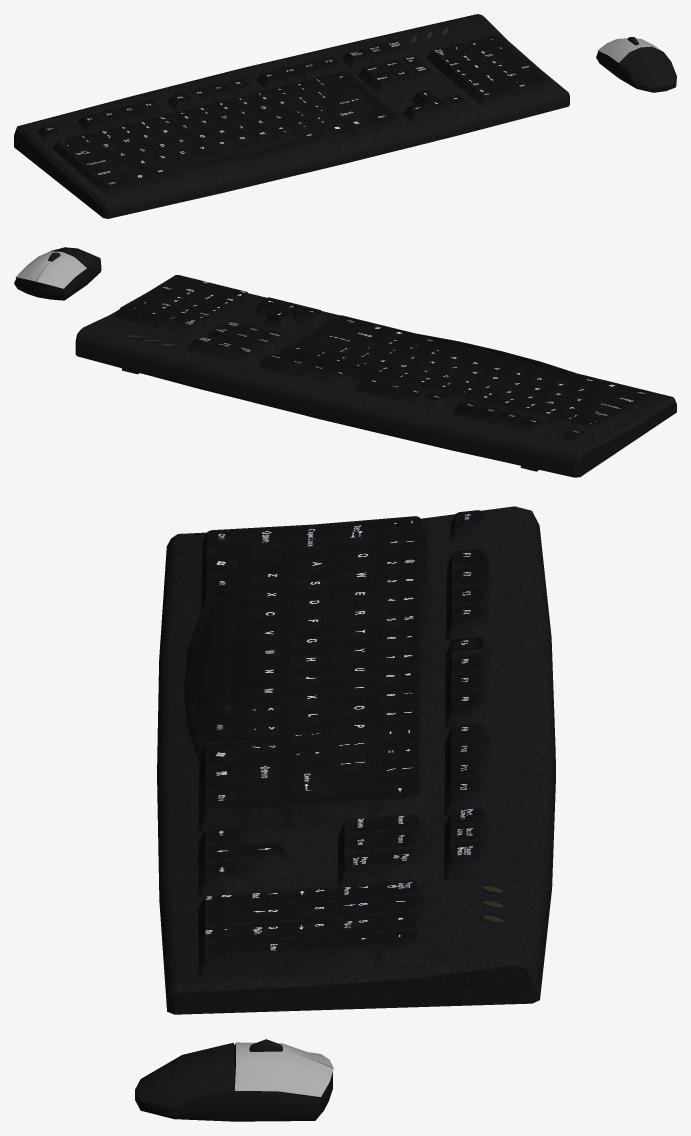
File: Mouse_KeyBoard.fbx
3 renders of one model, top to bottom at view 1: azimuth 30°, elevation 25°; view 2: azimuth 150°, elevation 25°; view 3: azimuth 270°, elevation 25°, orthographic. The views are drawn at different scales.
Parts seen in each view (by area): view 1: Keyboard, Mouse; view 2: Keyboard, Mouse; view 3: Keyboard, Mouse.
Boxes of the visible parts, box(x1,y1,x2,y2) form: Keyboard: box(14, 14, 569, 218); Mouse: box(596, 37, 676, 92); Keyboard: box(75, 275, 676, 477); Mouse: box(14, 247, 101, 300); Keyboard: box(157, 506, 555, 1014); Mouse: box(135, 1039, 333, 1121).
Size of the model in its own units: 54.22 by 2.97 by 17.13.
